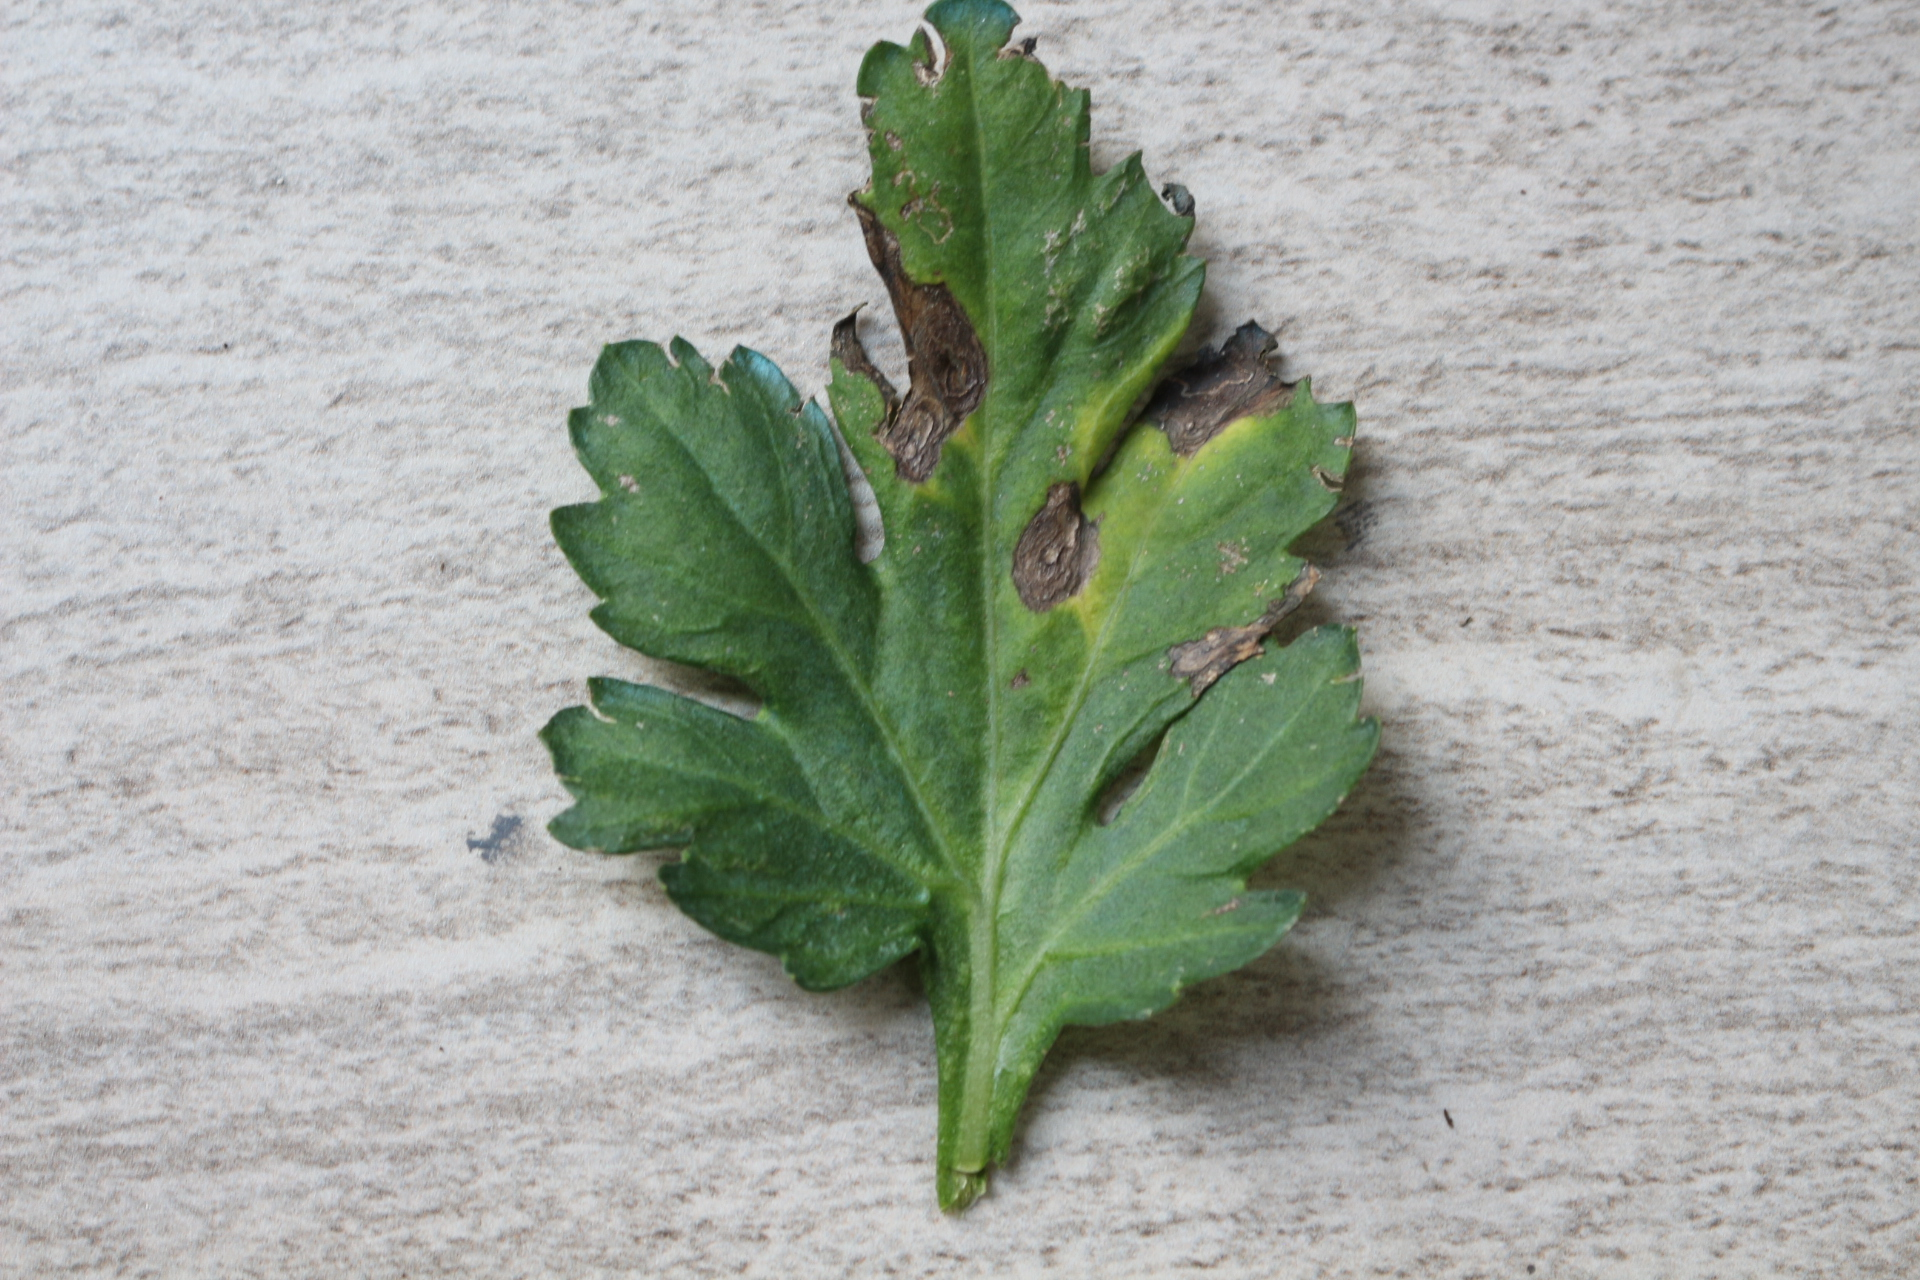namden: (1001, 483, 1109, 621)
